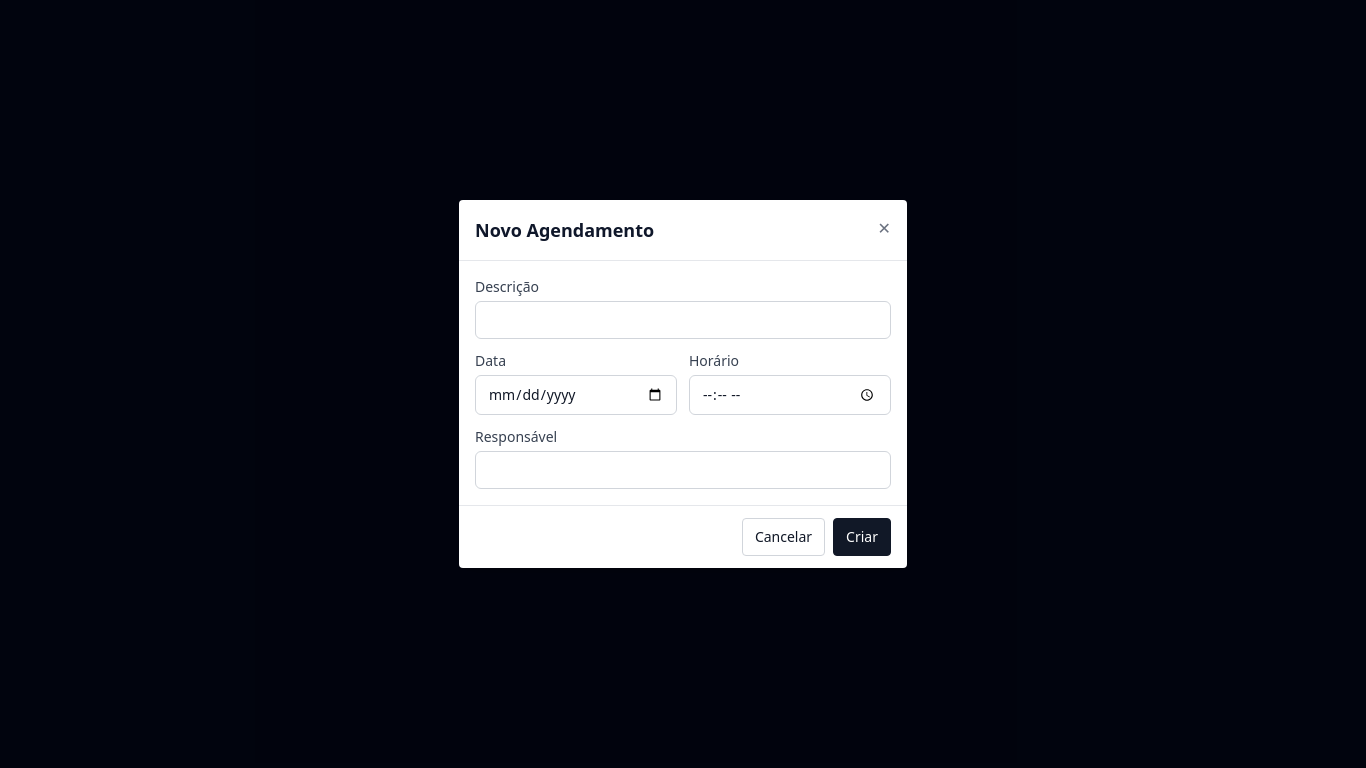
ScheduleFormModal › validates required fields and shows errors
Click the button "Criar": x=862, y=537 [833,518,891,556]
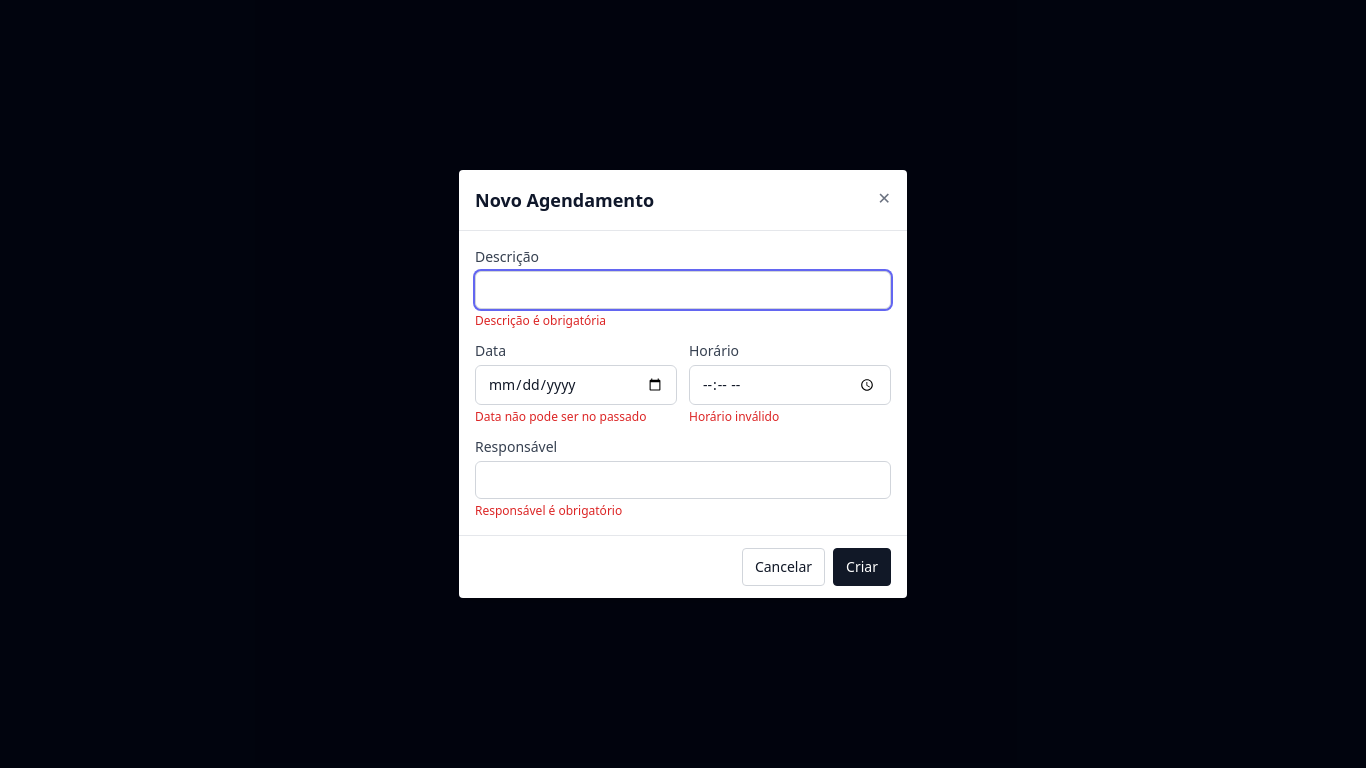
Now the text "Descrição é obrigatória" is shown, box [475,312,606,329]
Now the text "Data não pode ser no passado" is shown, box [475,408,646,425]
Now the text "Horário inválido" is shown, box [689,408,779,425]
